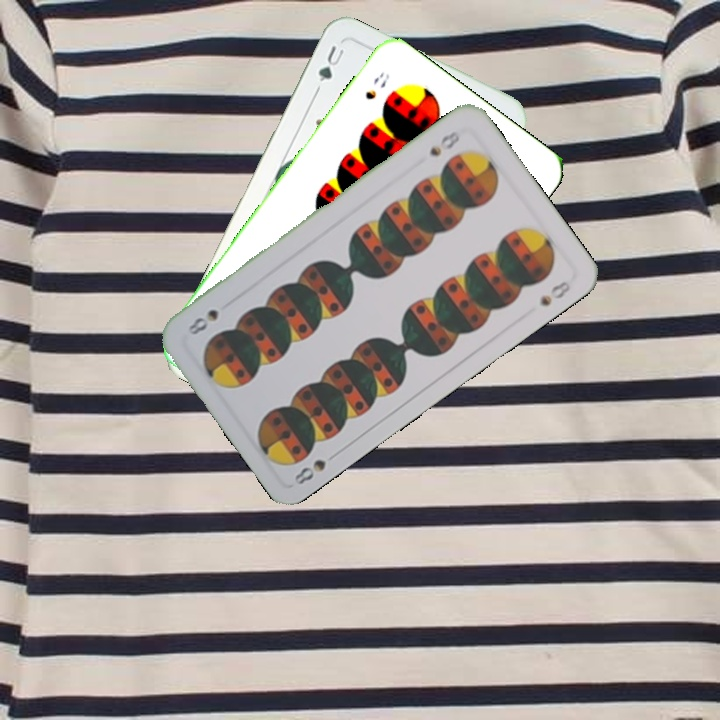GU: (314, 41, 347, 86)
S8: (290, 447, 342, 488), (425, 126, 463, 159), (361, 68, 392, 103)
